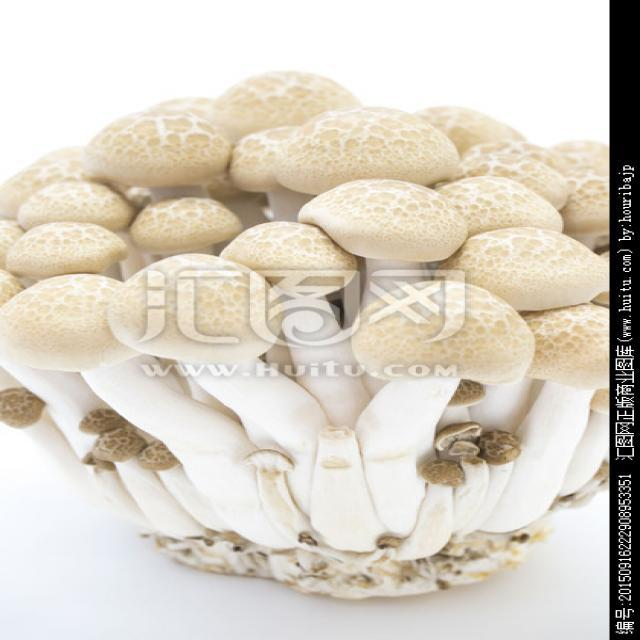Hypsizygus marmoreus: (1, 68, 608, 598)
